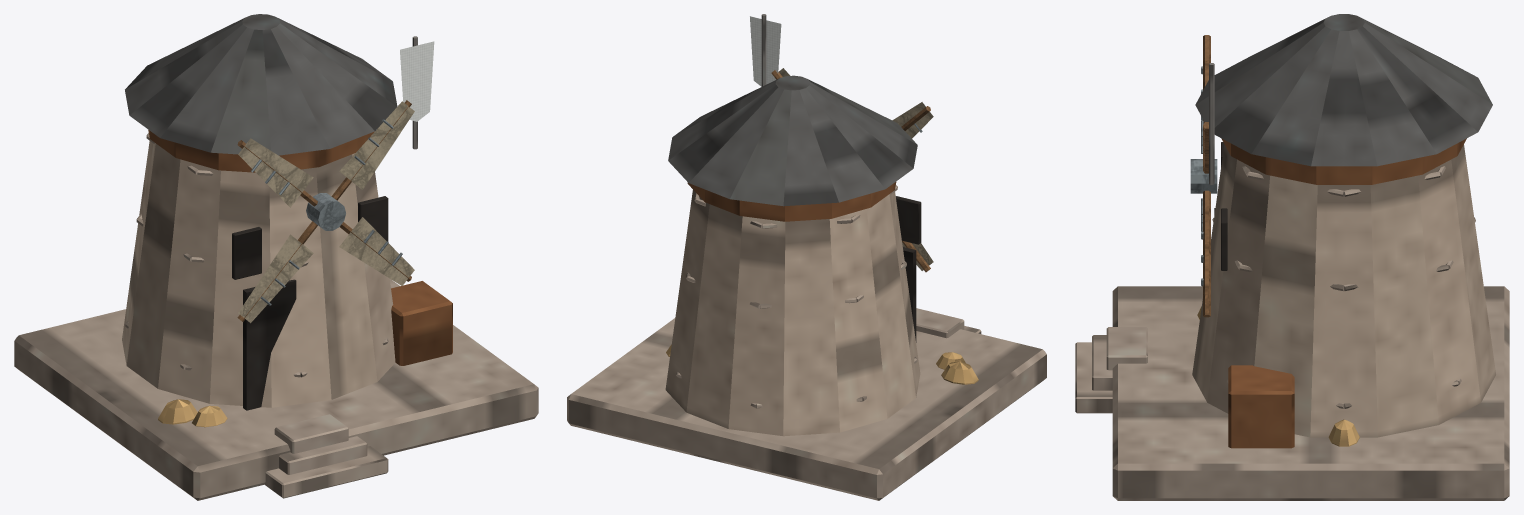
Rendered from edificio-farm-e3-DCpIgvXP.glb.
The picture shows the model from 3 angles, left to right: view 1: azimuth 30°, elevation 25°; view 2: azimuth 150°, elevation 25°; view 3: azimuth 270°, elevation 25°; orthographic projection. The views are drawn at different scales.
Parts seen in each view (by area): view 1: molino_e3_envolvente, rotor_molino, molino_e3_team_color; view 2: molino_e3_envolvente, molino_e3_team_color, rotor_molino; view 3: molino_e3_envolvente, rotor_molino.
Boxes of the visible parts, x1,y1,x2,y2 form: molino_e3_envolvente: (14,14,538,500); rotor_molino: (237,100,414,323); molino_e3_team_color: (400,41,434,121); molino_e3_envolvente: (567,14,1046,500); molino_e3_team_color: (750,16,781,86); rotor_molino: (771,68,933,272); molino_e3_envolvente: (1075,14,1509,500); rotor_molino: (1190,35,1217,317).
Size of the model in its own units: 52 by 53 by 52.5.
3 materials, 3 textured.
